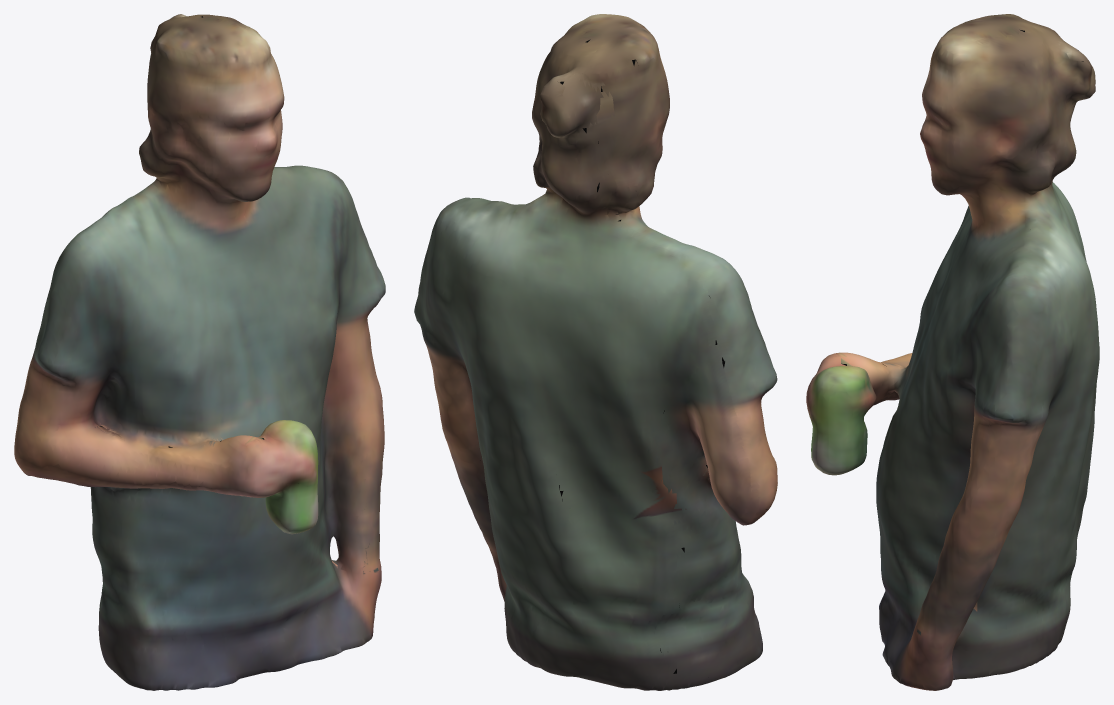
The model's file is Playermodell_0026.fbx.
3 views of the same model, side by side, from view 1: azimuth 30°, elevation 25°; view 2: azimuth 150°, elevation 25°; view 3: azimuth 270°, elevation 25° (orthographic). The views are drawn at different scales.
Visible parts, largest first — view 1: Takemitblkbackgroundseverin; view 2: Takemitblkbackgroundseverin; view 3: Takemitblkbackgroundseverin.
Boxes of the visible parts, left/top/right/bottom form: Takemitblkbackgroundseverin: left=14, top=14, right=385, bottom=690; Takemitblkbackgroundseverin: left=414, top=14, right=777, bottom=690; Takemitblkbackgroundseverin: left=806, top=14, right=1099, bottom=690.
Bounding box in the file's own units: 232 × 380 × 167.
Materials: 1 (1 with a texture image).
